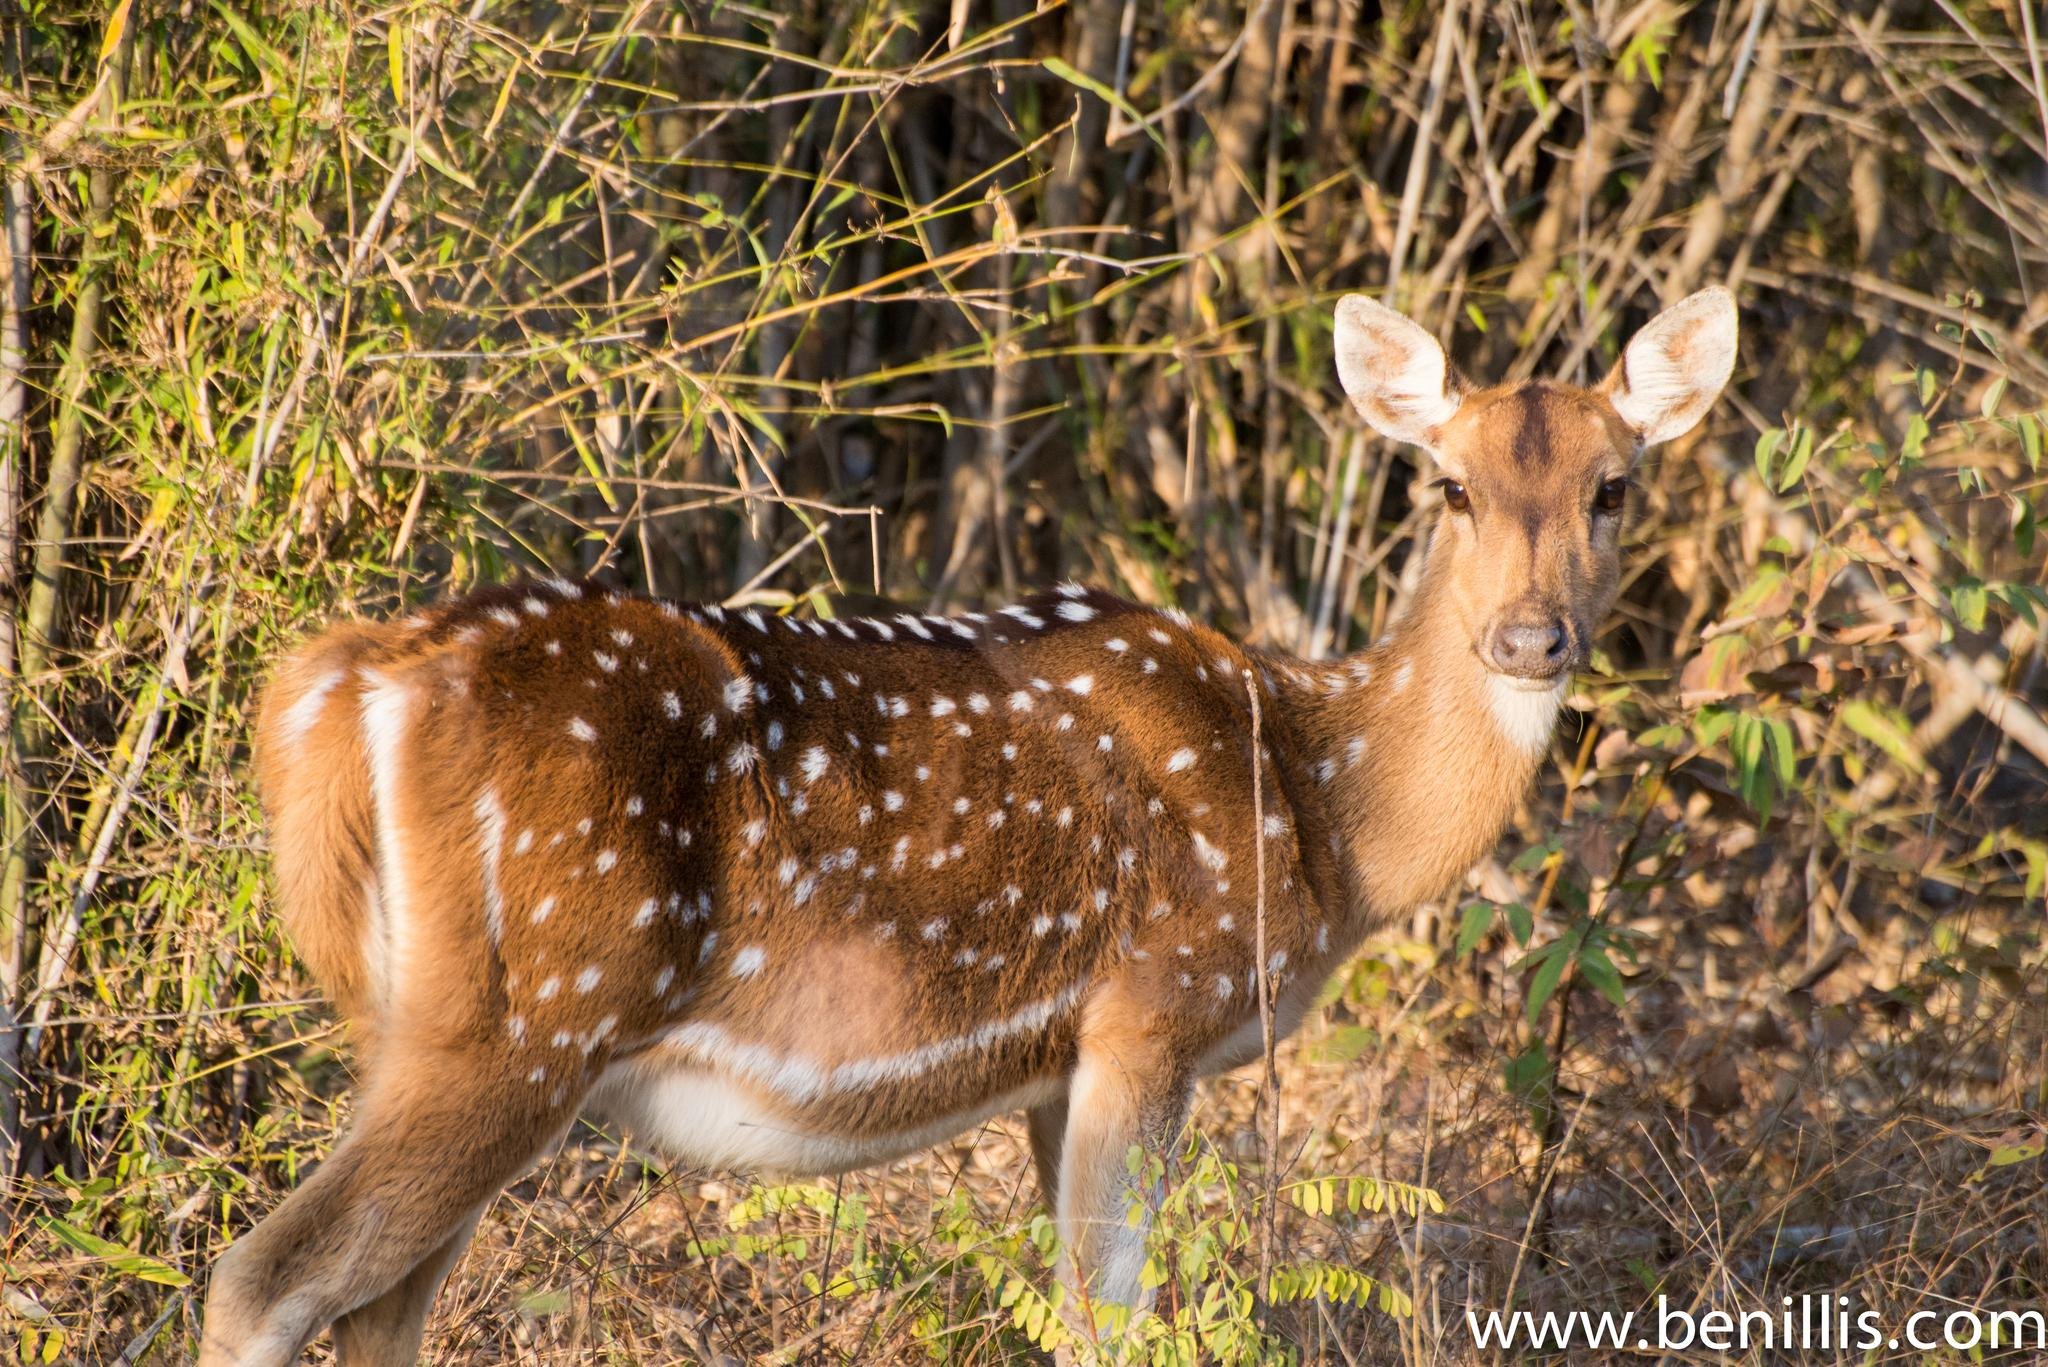Deer: (198, 288, 1735, 1362)
